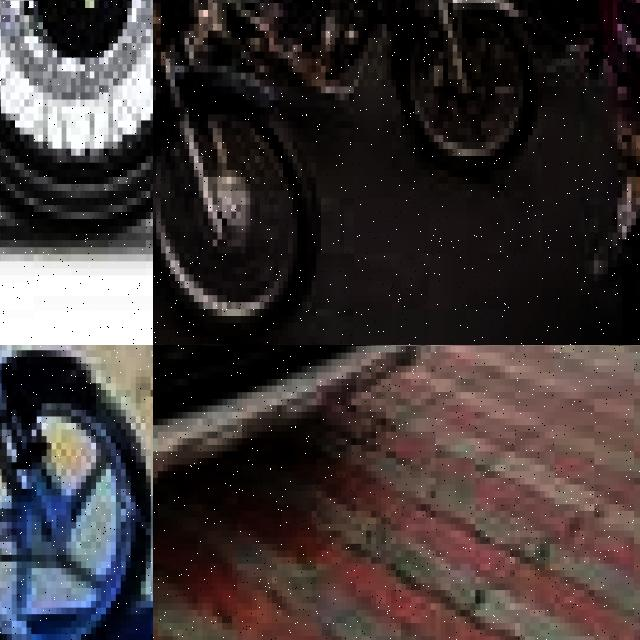bike: (153, 0, 542, 184), (153, 0, 316, 344), (0, 345, 153, 640), (0, 0, 153, 240)
car: (153, 345, 490, 557)
